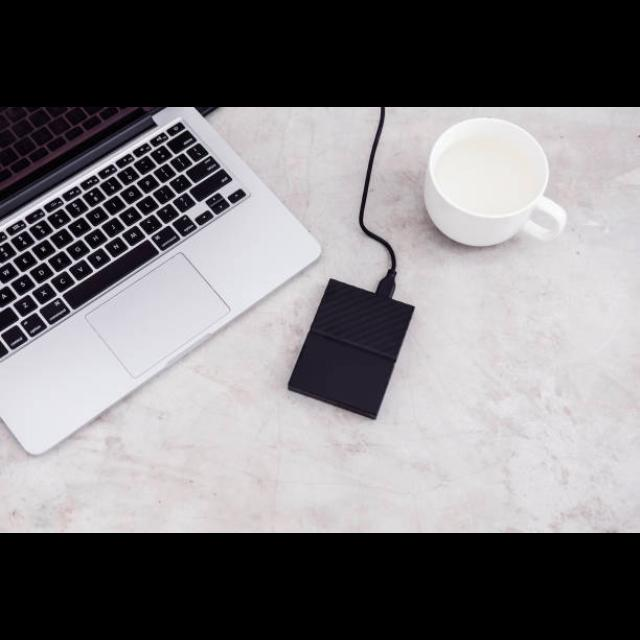HDD: (288, 239, 416, 422)
